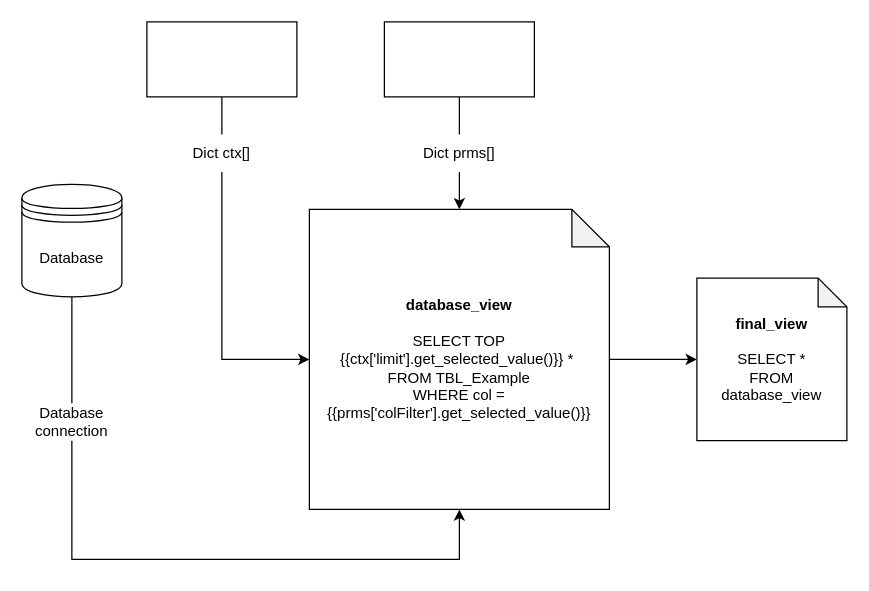
Some shapes in this 869 by 591 pixel diagram are drawn without their labels. Each missing label, with the box of its shape:
context.py: (146, 21, 297, 97)
parameters.py: (383, 21, 534, 97)
